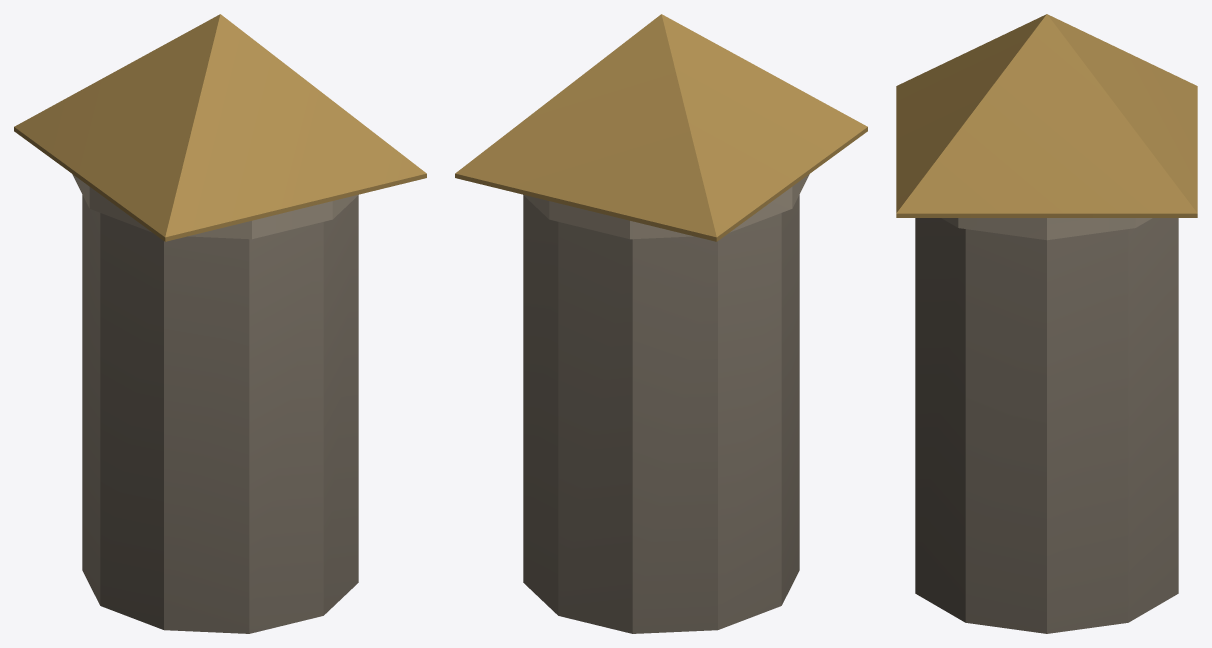
File: wari_tower_lod1.glb
3 renders of one model, left to right at view 1: azimuth 30°, elevation 25°; view 2: azimuth 150°, elevation 25°; view 3: azimuth 270°, elevation 25°, orthographic.
Visible parts, largest first — view 1: GEO-Arch_wari_tower_LOD1; view 2: GEO-Arch_wari_tower_LOD1; view 3: GEO-Arch_wari_tower_LOD1.
Boxes of the visible parts, x1=… form: GEO-Arch_wari_tower_LOD1: x1=14, y1=14, x2=426, y2=633; GEO-Arch_wari_tower_LOD1: x1=455, y1=14, x2=867, y2=633; GEO-Arch_wari_tower_LOD1: x1=896, y1=14, x2=1197, y2=633.
Bounding box in the file's own units: 3.7 × 7.6 × 3.7.
